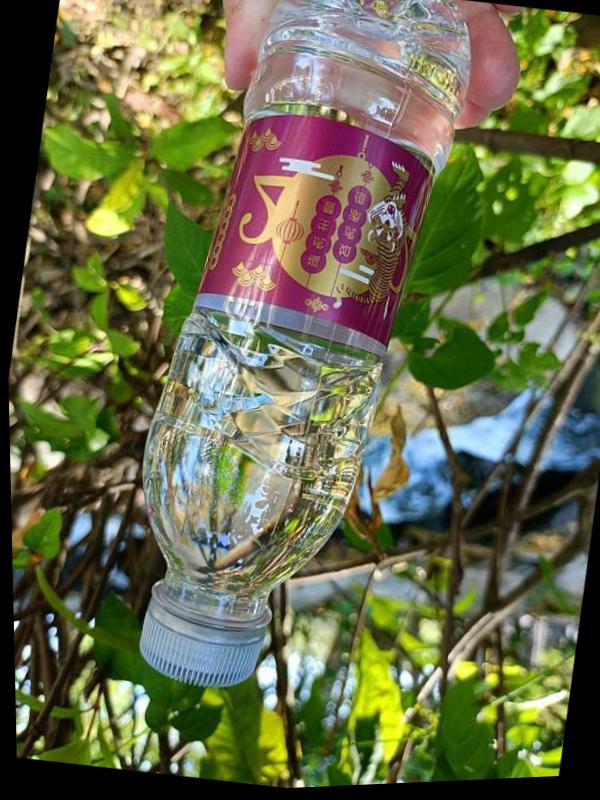plastic: (140, 0, 518, 685)
